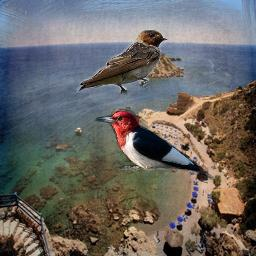Swallow: (75, 28, 168, 95)
Woodpecker: (93, 109, 215, 182)
